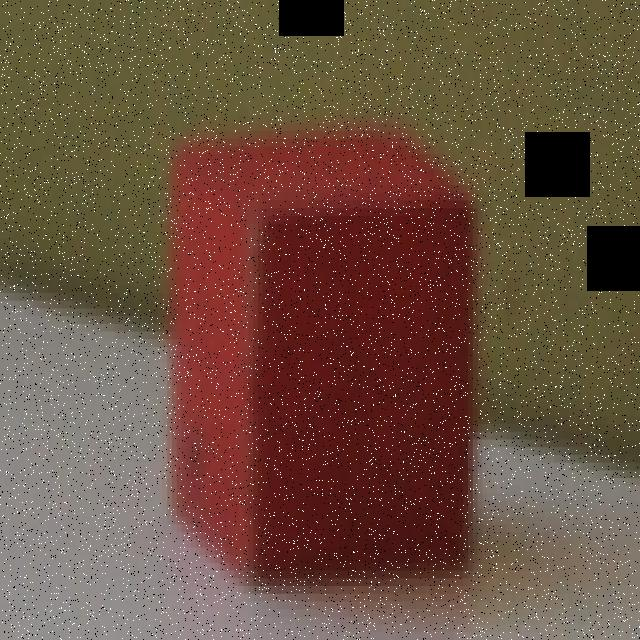red cube: (158, 128, 475, 591)
